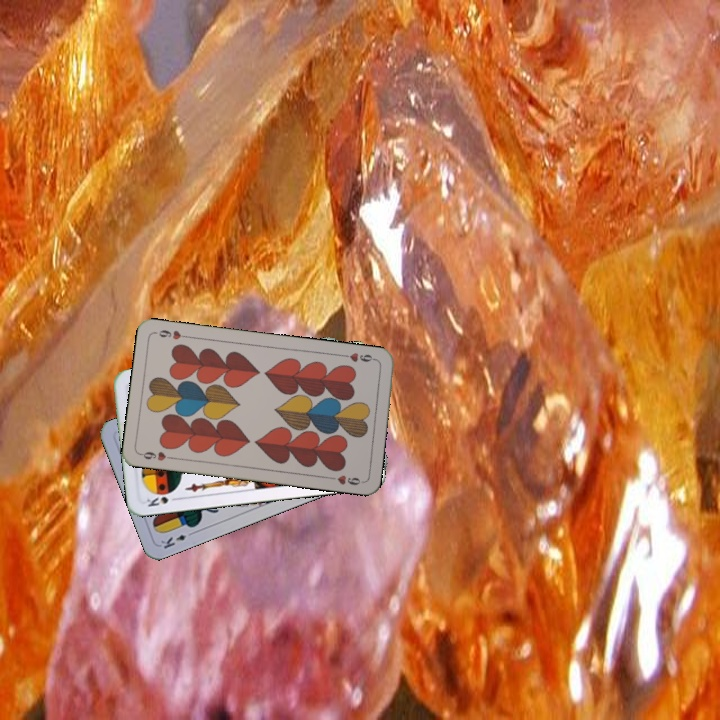EK: (157, 527, 197, 552)
H9: (339, 348, 379, 365), (137, 447, 177, 463)
SK: (142, 493, 182, 509)
